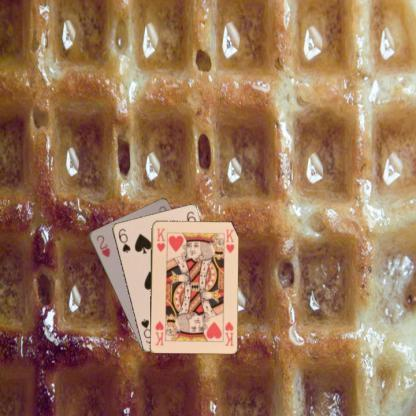2h: (94, 232, 112, 259)
6s: (116, 226, 132, 254)
Kh: (154, 225, 166, 252), (222, 320, 234, 347)
